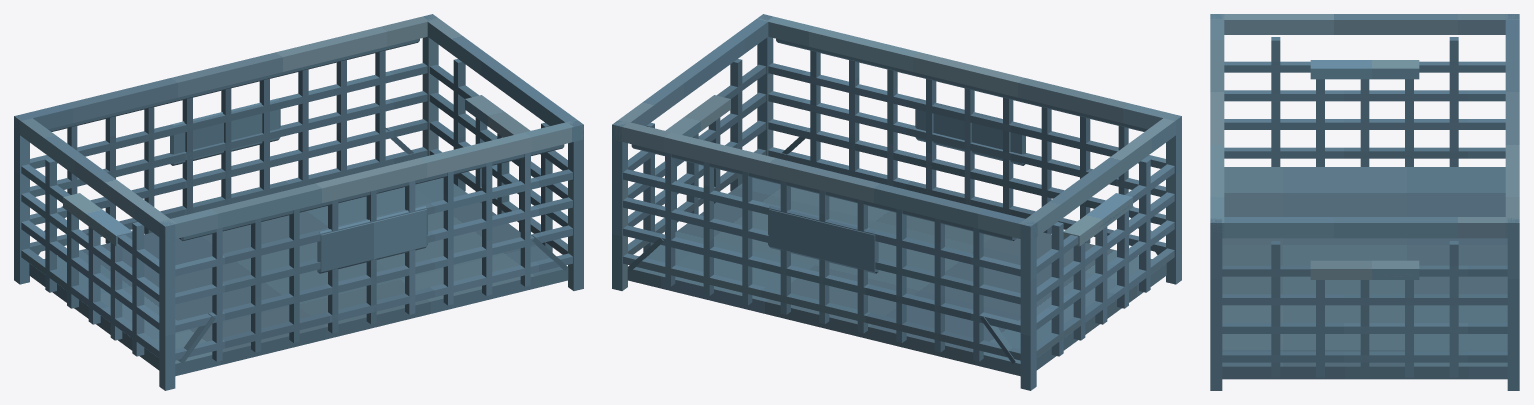
Rendered from crate-blue.glb.
3 renders of one model, left to right at view 1: azimuth 30°, elevation 25°; view 2: azimuth 150°, elevation 25°; view 3: azimuth 270°, elevation 25°, orthographic. The views are drawn at different scales.
Visible parts, largest first — view 1: crate-blue/solid-base, crate-blue/top-long-rim--1, crate-blue/top-long-rim-1, crate-blue/detail-moulded-panel--1, crate-blue/long-band--1-0, crate-blue/long-band--1-1, crate-blue/top-end-rim--1, crate-blue/long-band-1-3, crate-blue/top-end-rim-1, crate-blue/long-band-1-2, crate-blue/long-band--1-3, crate-blue/long-band-1-1 (+43 smaller); view 2: crate-blue/solid-base, crate-blue/top-long-rim-1, crate-blue/top-long-rim--1, crate-blue/detail-moulded-panel-1, crate-blue/long-band-1-1, crate-blue/long-band-1-0, crate-blue/top-end-rim--1, crate-blue/long-band--1-3, crate-blue/top-end-rim-1, crate-blue/long-band-1-3, crate-blue/long-band--1-2, crate-blue/long-band--1-1 (+43 smaller); view 3: crate-blue/solid-base, crate-blue/top-end-rim-1, crate-blue/top-end-rim--1, crate-blue/end-band-1-0, crate-blue/end-band-1-2, crate-blue/end-band--1-2, crate-blue/end-band--1-0, crate-blue/top-long-rim--1, crate-blue/top-long-rim-1, crate-blue/end-band-1-1, crate-blue/end-band--1-1, crate-blue/corner-1-0 (+15 smaller).
Part boxes in pixels (x1,y1,x2,y2): crate-blue/solid-base: (29, 177, 568, 376); crate-blue/top-long-rim--1: (158, 120, 583, 238); crate-blue/top-long-rim-1: (14, 14, 438, 129); crate-blue/detail-moulded-panel--1: (317, 206, 427, 273); crate-blue/long-band--1-0: (175, 253, 572, 360); crate-blue/long-band--1-1: (175, 225, 572, 332); crate-blue/top-end-rim--1: (14, 116, 176, 240); crate-blue/long-band-1-3: (30, 63, 427, 168); crate-blue/top-end-rim-1: (421, 15, 583, 142); crate-blue/long-band-1-2: (30, 91, 427, 196); crate-blue/long-band--1-3: (175, 169, 572, 276); crate-blue/long-band-1-1: (30, 119, 427, 224); crate-blue/solid-base: (627, 177, 1166, 376); crate-blue/top-long-rim-1: (612, 120, 1037, 238); crate-blue/top-long-rim--1: (757, 14, 1181, 129); crate-blue/detail-moulded-panel-1: (768, 206, 878, 273); crate-blue/long-band-1-1: (623, 225, 1020, 332); crate-blue/long-band-1-0: (623, 253, 1020, 360); crate-blue/top-end-rim--1: (1019, 117, 1181, 238); crate-blue/long-band--1-3: (768, 63, 1165, 168); crate-blue/top-end-rim-1: (614, 15, 772, 141); crate-blue/long-band-1-3: (623, 169, 1020, 276); crate-blue/long-band--1-2: (768, 91, 1165, 196); crate-blue/long-band--1-1: (768, 119, 1165, 224); crate-blue/solid-base: (1222, 167, 1507, 379); crate-blue/top-end-rim-1: (1212, 217, 1519, 238); crate-blue/top-end-rim--1: (1210, 14, 1519, 34); crate-blue/end-band-1-0: (1222, 351, 1507, 362); crate-blue/end-band-1-2: (1222, 294, 1507, 305); crate-blue/end-band--1-2: (1224, 90, 1505, 101); crate-blue/end-band--1-0: (1224, 147, 1505, 158); crate-blue/top-long-rim--1: (1210, 14, 1224, 238); crate-blue/top-long-rim-1: (1505, 14, 1519, 238); crate-blue/end-band-1-1: (1222, 323, 1507, 333); crate-blue/end-band--1-1: (1224, 119, 1505, 129); crate-blue/corner-1-0: (1210, 218, 1222, 390).
Size of the model in its own units: 0.5 by 0.1875 by 0.3125.
Materials: 1 (1 with a texture image).
